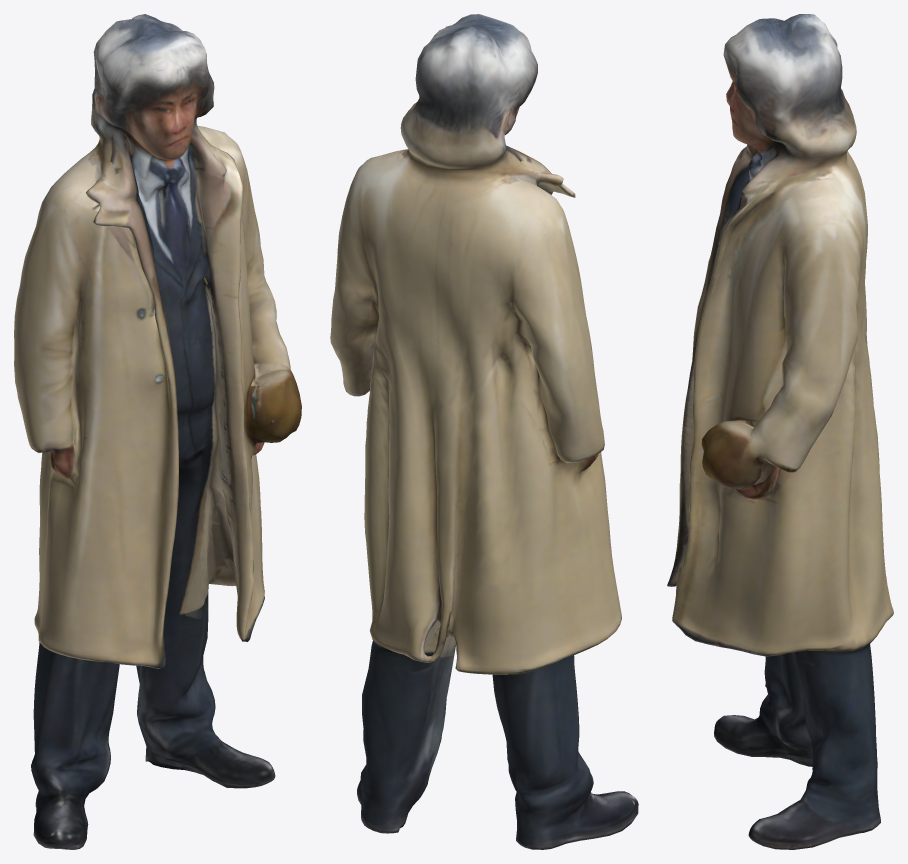
The model's file is Meshy_AI_Detective_in_a_Trench_0327042041_texture.fbx.
The picture shows the model from 3 angles, left to right: view 1: azimuth 30°, elevation 25°; view 2: azimuth 150°, elevation 25°; view 3: azimuth 270°, elevation 25°; orthographic projection.
Visible parts, largest first — view 1: Mesh1_Mesh1.041; view 2: Mesh1_Mesh1.041; view 3: Mesh1_Mesh1.041.
Boxes of the visible parts, bbox=[...] form: Mesh1_Mesh1.041: bbox=[14, 14, 301, 849]; Mesh1_Mesh1.041: bbox=[330, 14, 638, 849]; Mesh1_Mesh1.041: bbox=[667, 14, 893, 849].
Size of the model in its own units: 70.89 by 200 by 52.81.
1 material, 1 textured.
